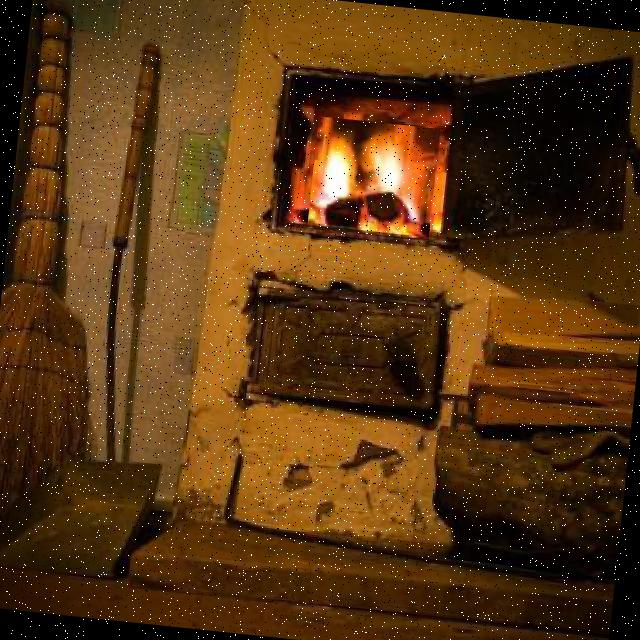fire: (306, 116, 439, 240)
